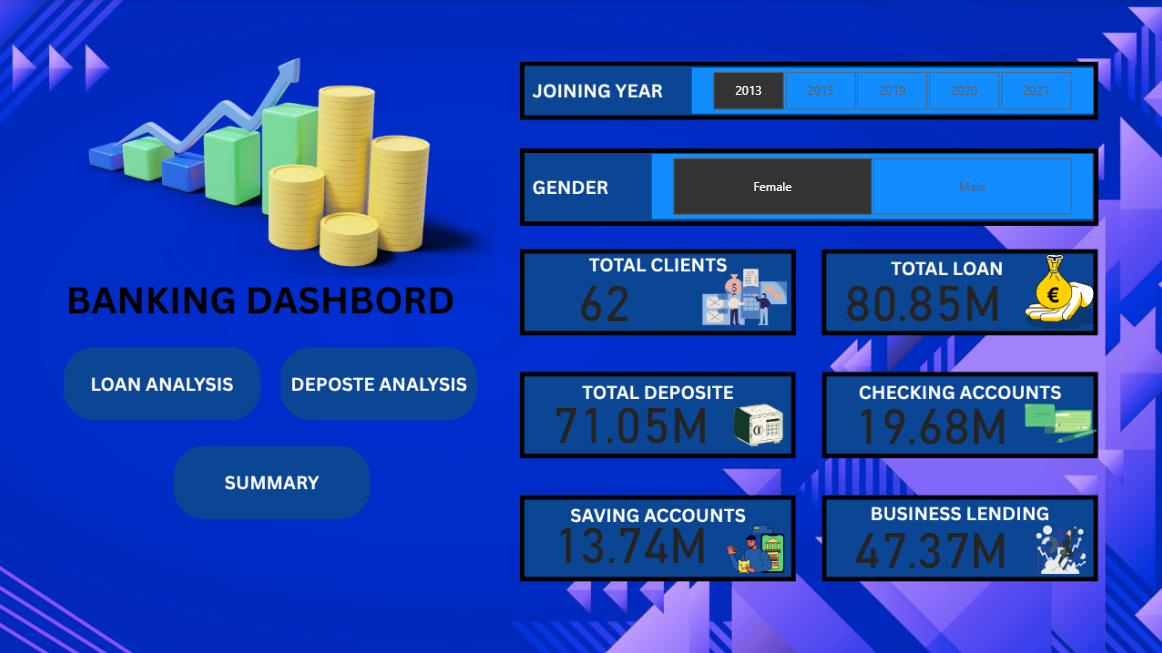

What the dashboard file says about the page in this screenshot:
{"tool":"powerbi","page":{"name":"HOME","canvas":[1280,720],"ordinal":0},"visuals":[{"type":"card","fields":{"Values":["CountNonNull(Query1.Name)"]},"box":[587.3,295,156.4,64.5],"z":0},{"type":"slicer","fields":{"Values":["Query1.GenderId"]},"box":[717.7,170.2,484.4,71.4],"z":1000},{"type":"card","fields":{"Values":["Query1.Total Deposite"]},"box":[587.3,429.5,214.1,64.5],"z":2000},{"type":"card","fields":{"Values":["Query1.Total Loan"]},"box":[915.3,295,200.3,64.5],"z":3000},{"type":"card","fields":{"Values":["Sum(Query1.Checking Accounts)"]},"box":[919.4,430.9,209.9,64.5],"z":4000},{"type":"card","fields":{"Values":["Sum(Query1.Business Lending)"]},"box":[919.4,566.7,209.9,64.5],"z":5000},{"type":"card","fields":{"Values":["Sum(Query1.Saving Accounts)"]},"box":[587.3,561.2,214.1,64.5],"z":6000},{"type":"slicer","fields":{"Values":["Query1.Year of Joining"]},"box":[761.6,75.5,440.5,50.8],"z":7000},{"type":"actionButton","box":[96.1,397.9,172.9,48],"z":8000},{"type":"actionButton","box":[322.5,389.7,190.7,72.7],"z":9000},{"type":"actionButton","box":[208.6,494,190.7,72.7],"z":10000}]}

Visuals, with their boxes in screenshot pixels (x1, y1, x2, y2), scaled from the page's 1280x720 canvas onto the 1162x653 screenshot:
card - CountNonNull(Query1.Name): bbox=(533, 268, 675, 326)
slicer - Query1.GenderId: bbox=(652, 154, 1091, 219)
card - Query1.Total Deposite: bbox=(533, 390, 728, 448)
card - Query1.Total Loan: bbox=(831, 268, 1013, 326)
card - Sum(Query1.Checking Accounts): bbox=(835, 391, 1025, 449)
card - Sum(Query1.Business Lending): bbox=(835, 514, 1025, 572)
card - Sum(Query1.Saving Accounts): bbox=(533, 509, 728, 567)
slicer - Query1.Year of Joining: bbox=(691, 68, 1091, 115)
actionButton: bbox=(87, 361, 244, 404)
actionButton: bbox=(293, 353, 466, 419)
actionButton: bbox=(189, 448, 362, 514)
